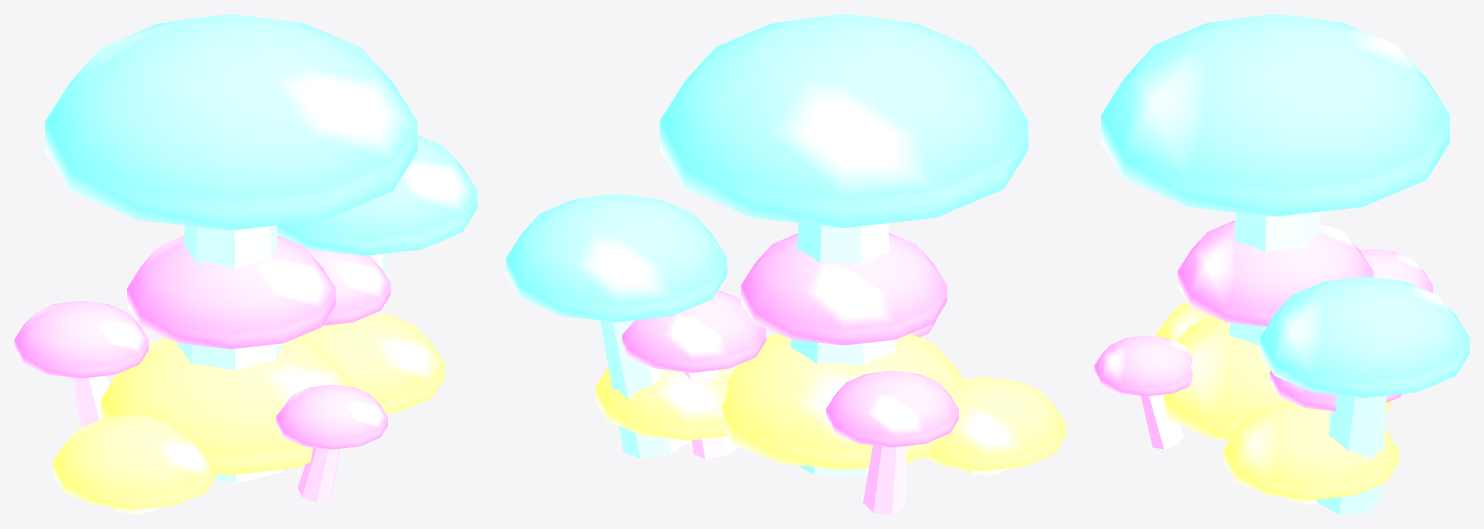
File: hongos-CWm7IpTg.glb
3 renders of one model, left to right at view 1: azimuth 30°, elevation 25°; view 2: azimuth 150°, elevation 25°; view 3: azimuth 270°, elevation 25°, orthographic. The views are drawn at different scales.
Visible parts, largest first — view 1: Hongos turquesa, Hongos lima, Hongos magenta; view 2: Hongos turquesa, Hongos magenta, Hongos lima; view 3: Hongos turquesa, Hongos lima, Hongos magenta.
Part boxes in pixels (x1=…): Hongos turquesa: x1=45, y1=14, x2=477, y2=483; Hongos lima: x1=53, y1=313, x2=444, y2=514; Hongos magenta: x1=14, y1=235, x2=390, y2=502; Hongos turquesa: x1=506, y1=14, x2=1028, y2=476; Hongos magenta: x1=622, y1=233, x2=958, y2=514; Hongos lima: x1=595, y1=333, x2=1065, y2=475; Hongos turquesa: x1=1101, y1=14, x2=1469, y2=514; Hongos lima: x1=1155, y1=302, x2=1398, y2=504; Hongos magenta: x1=1094, y1=220, x2=1432, y2=449.
Bounding box in the file's own units: 1.42 × 1.22 × 1.05.
